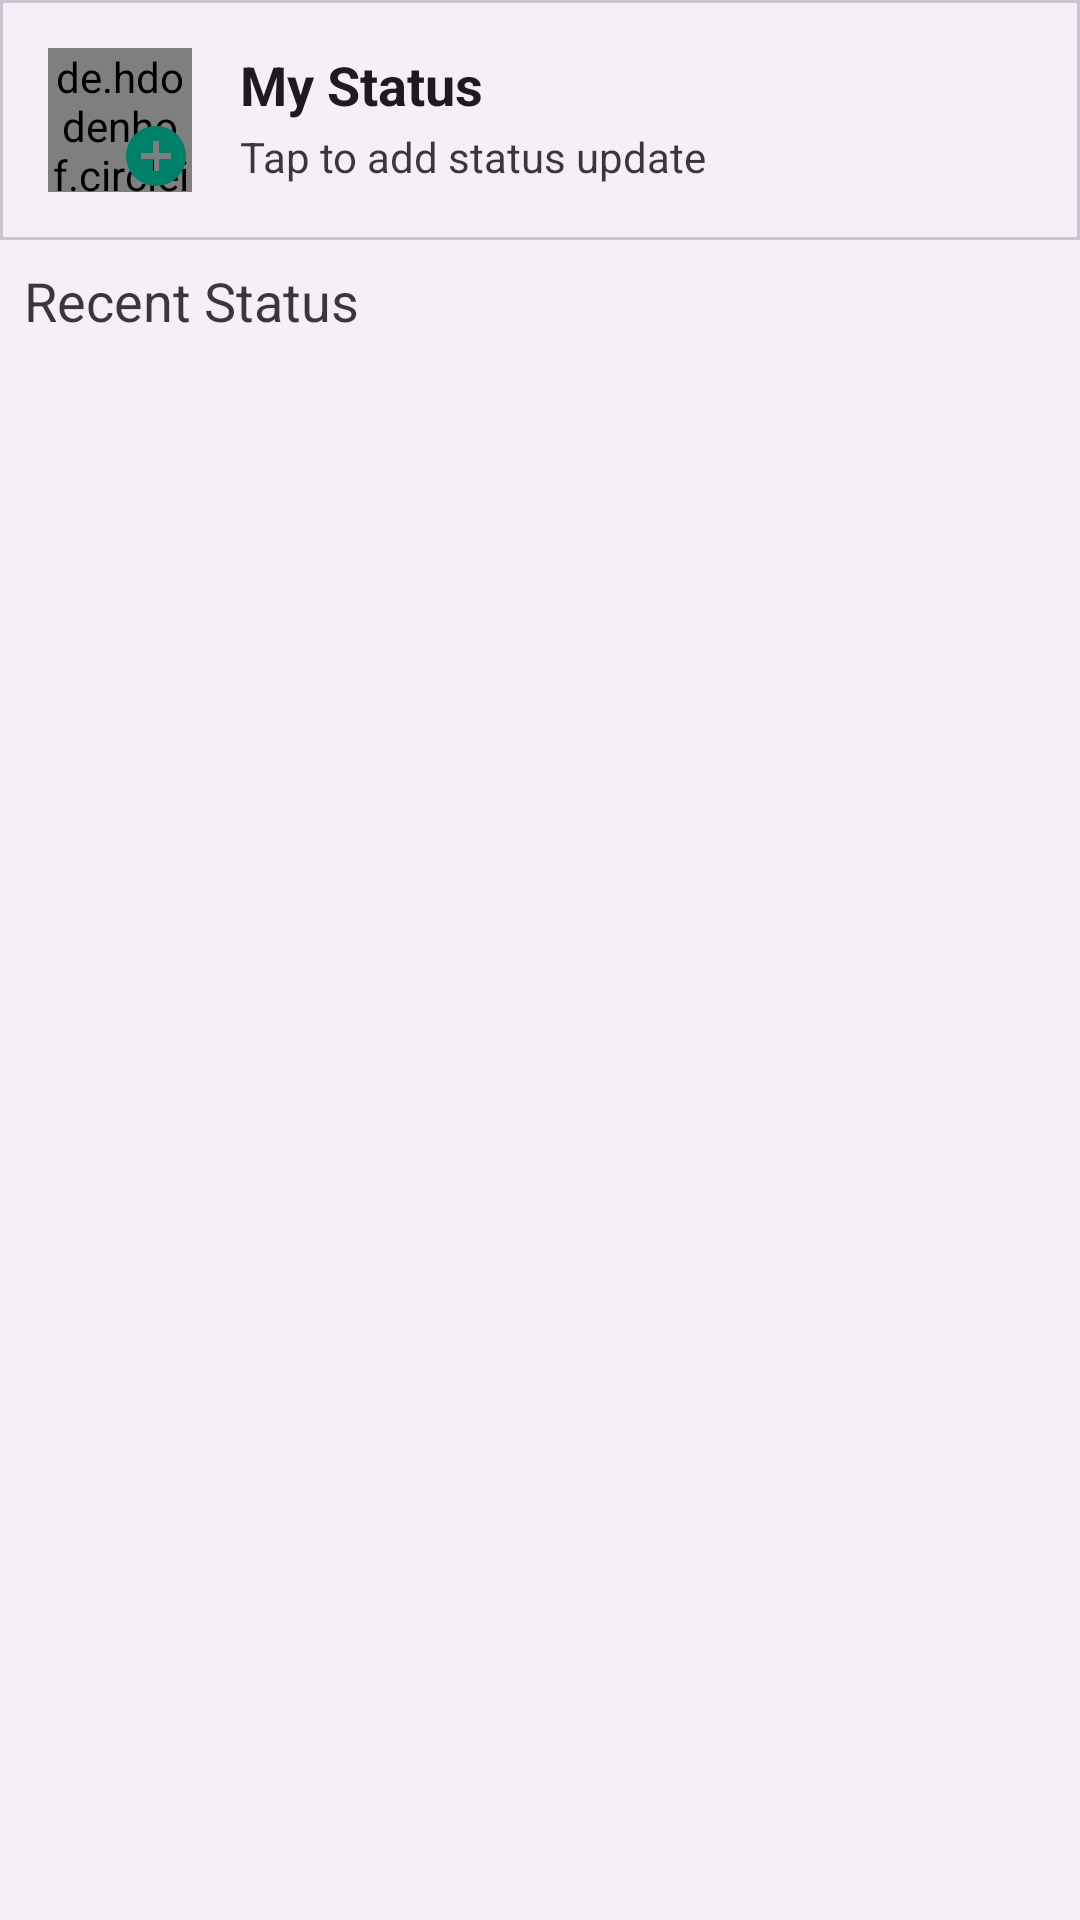

Icon click points for this 1080x1920 phone screenshot, format point (x, y):
add circle: point (156, 156)
